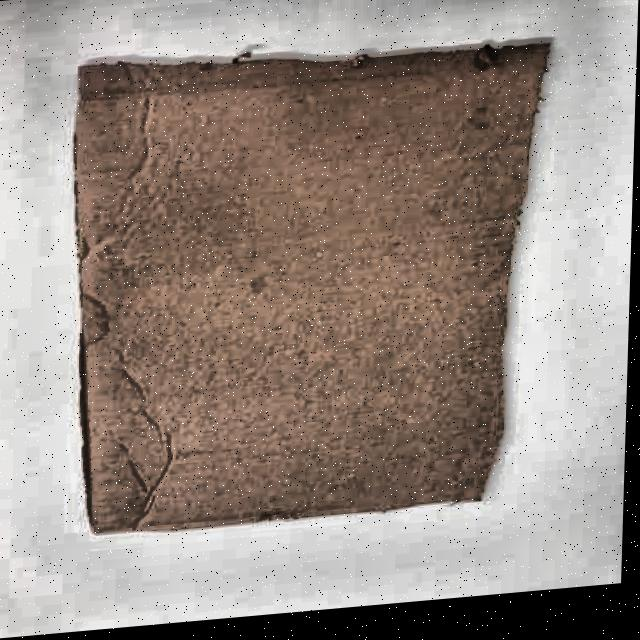cardboard: (59, 20, 551, 542)
